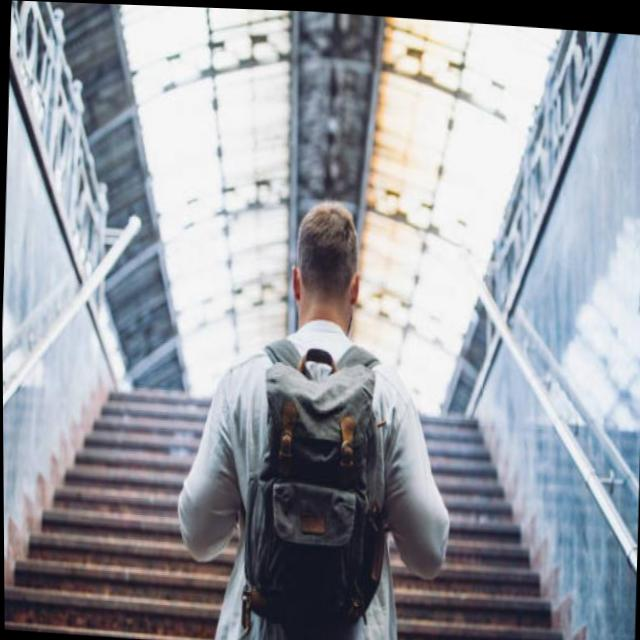no helmet: (270, 172, 403, 390)
